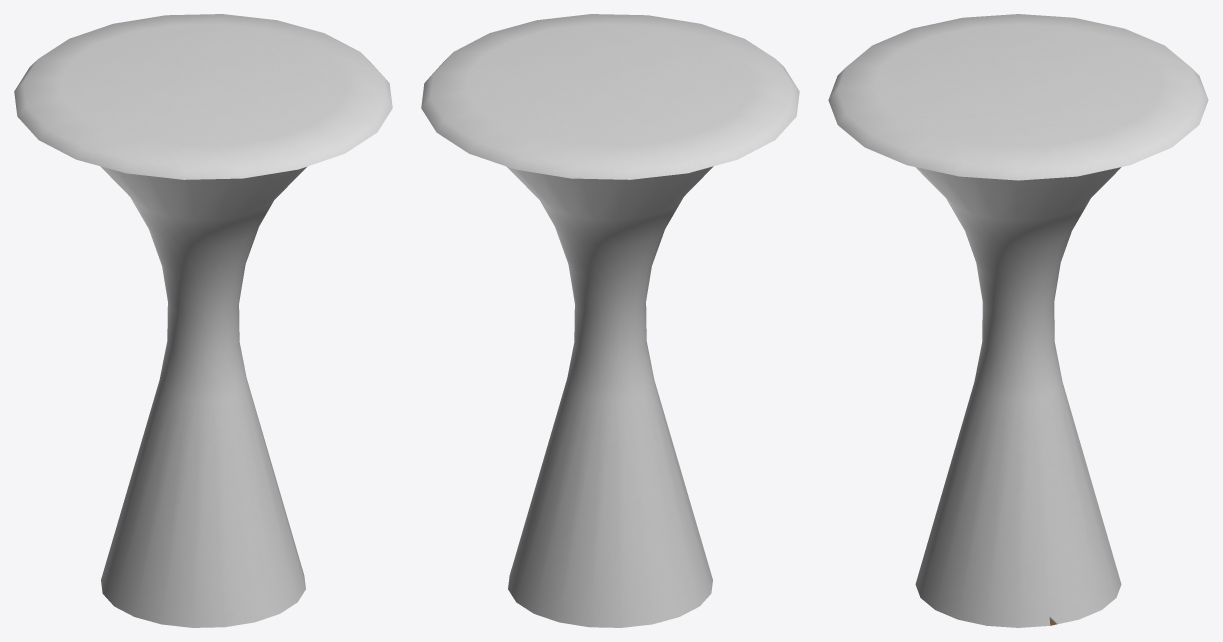
Rendered from Props_SmallTable.fbx.
3 views of the same model, side by side, from view 1: azimuth 30°, elevation 25°; view 2: azimuth 150°, elevation 25°; view 3: azimuth 270°, elevation 25° (orthographic).
Visible parts, largest first — view 1: Props_SmallTable; view 2: Props_SmallTable; view 3: Props_SmallTable.
Boxes of the visible parts, bbox=[...] form: Props_SmallTable: bbox=[14, 14, 392, 627]; Props_SmallTable: bbox=[421, 14, 799, 627]; Props_SmallTable: bbox=[828, 14, 1208, 627].
Bounding box in the file's own units: 69.05 × 100 × 69.05.
